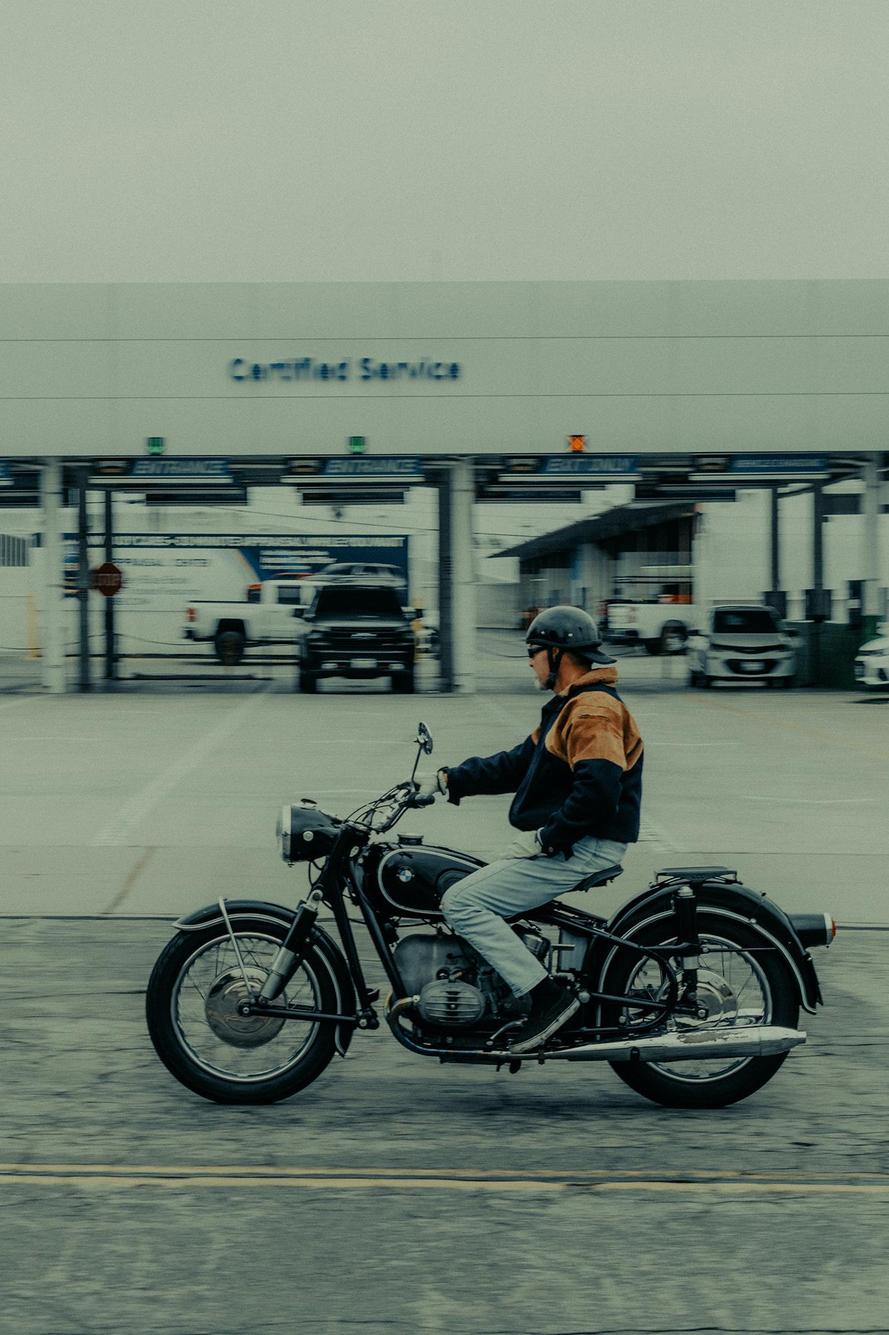helmet: (525, 604, 618, 692)
